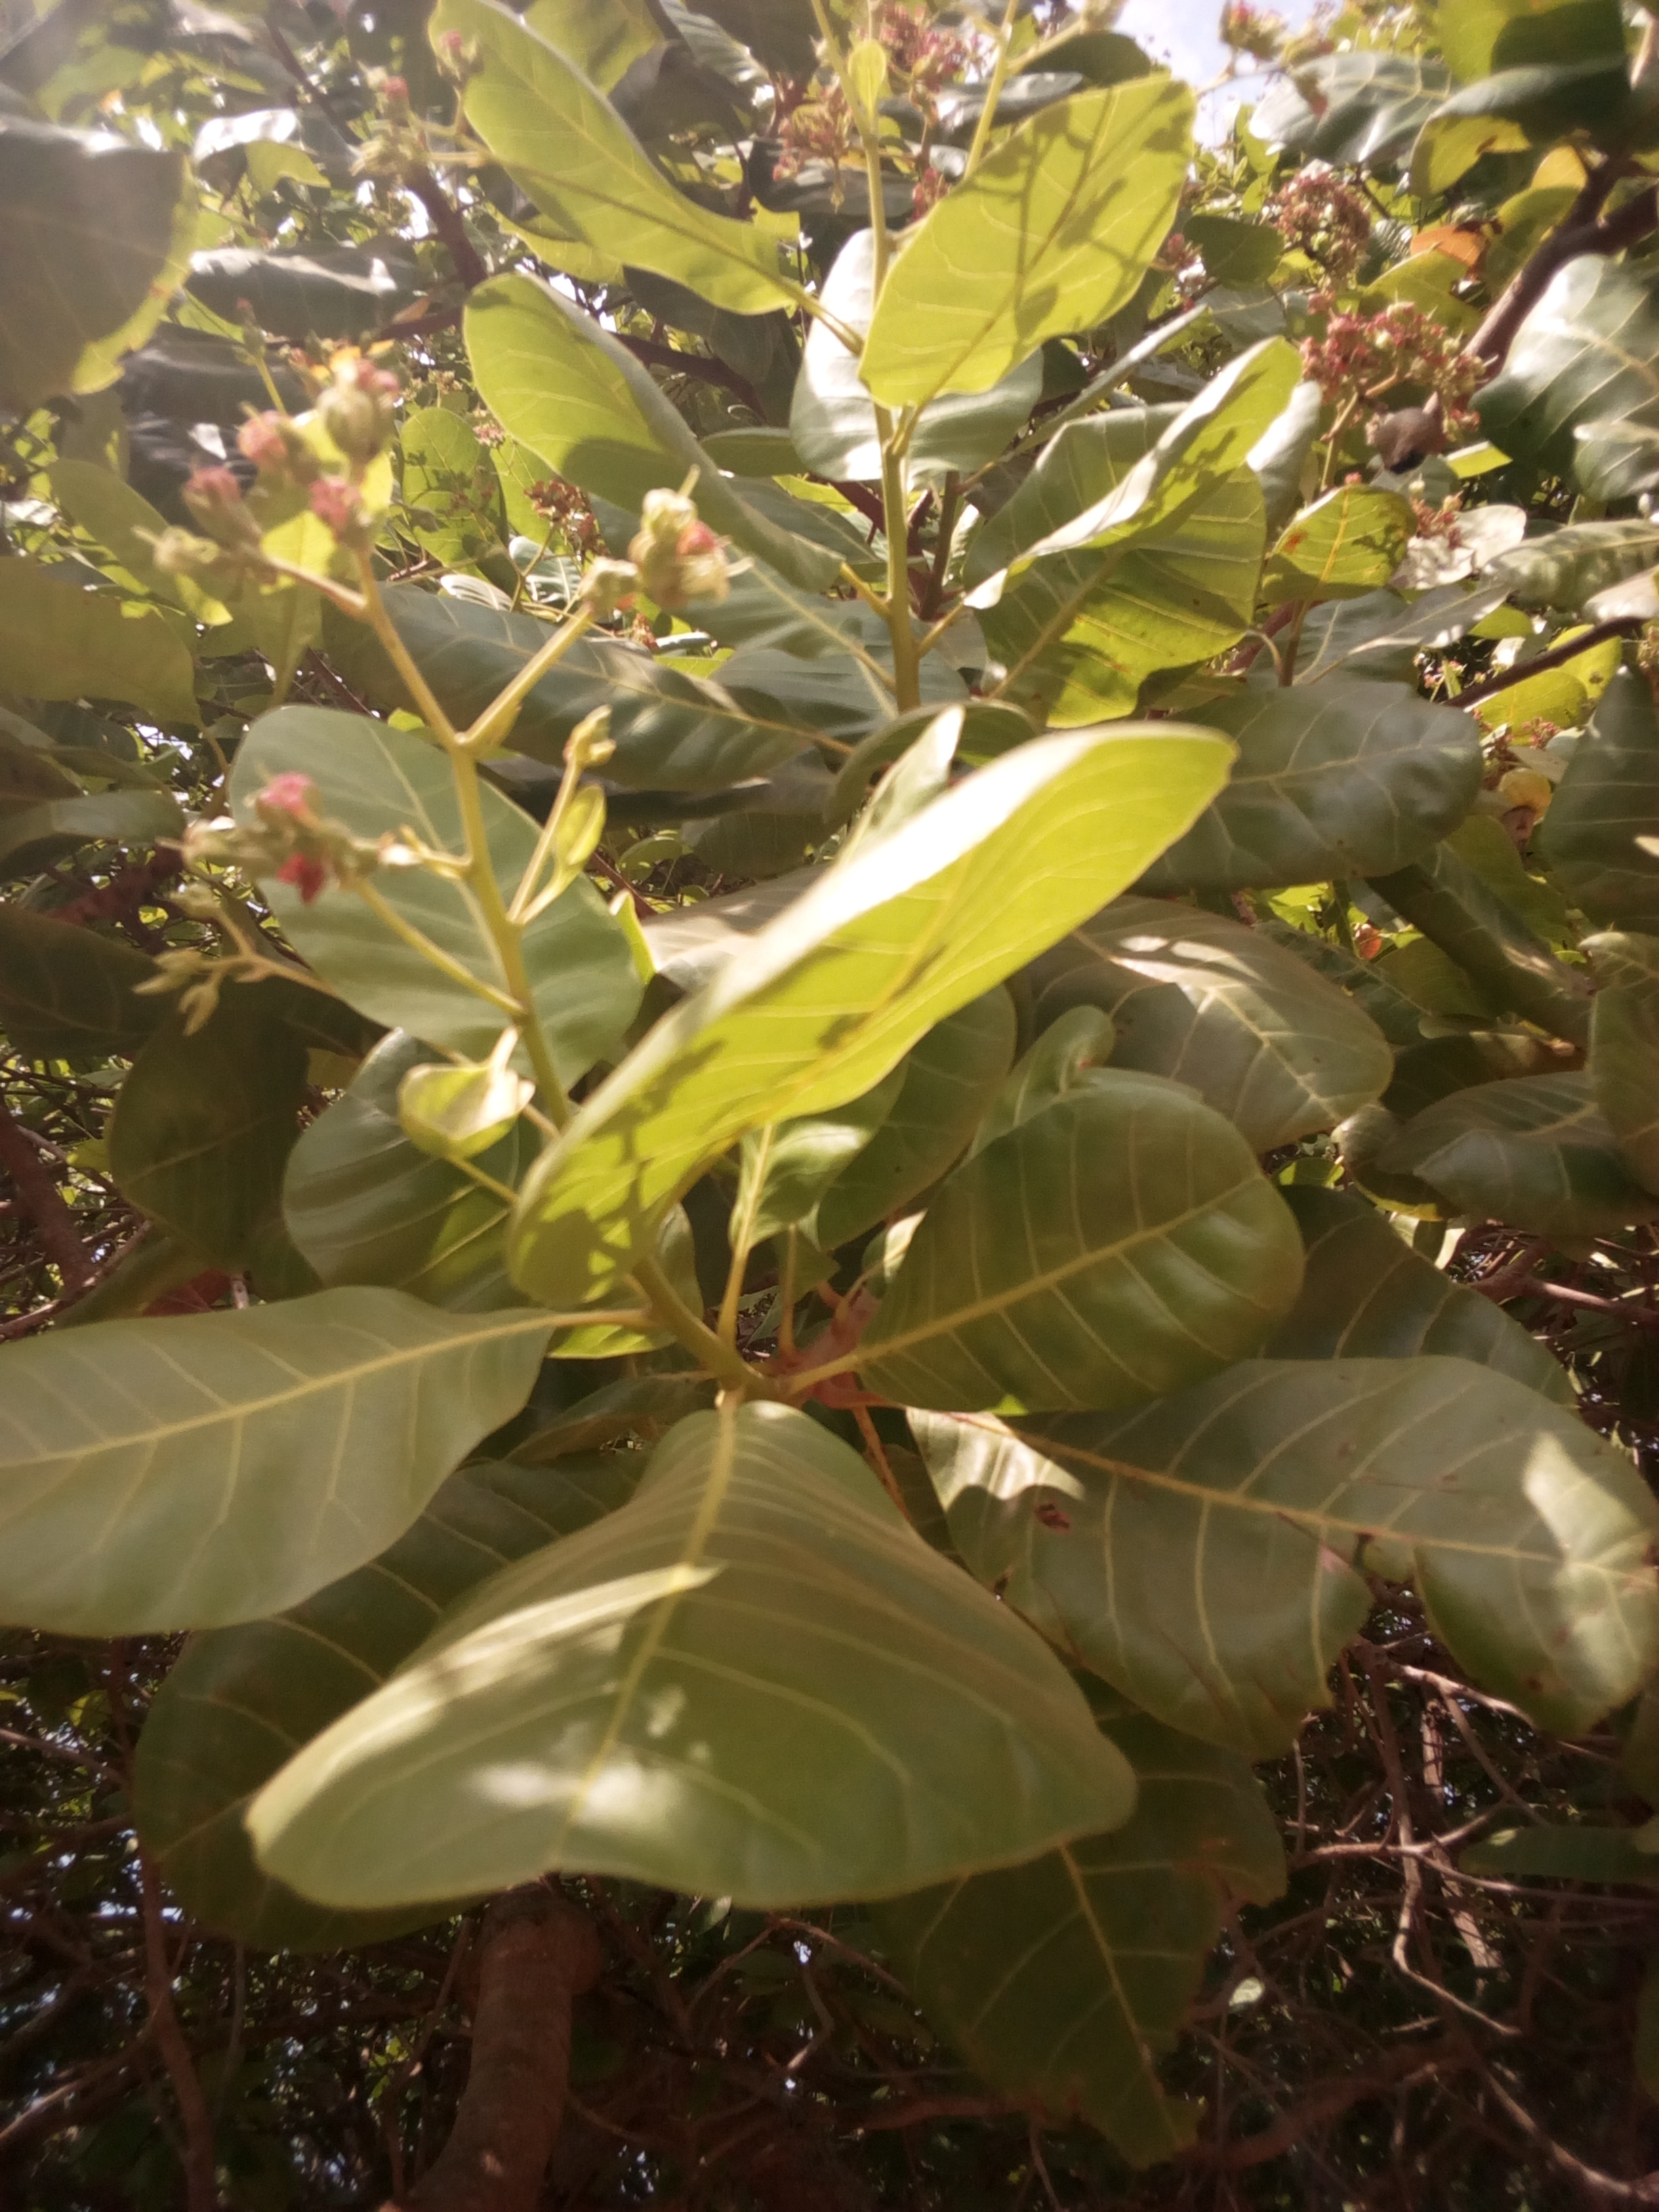Helopeltis anacardii: (1066, 1374, 1643, 1719), (1199, 686, 1480, 869)
